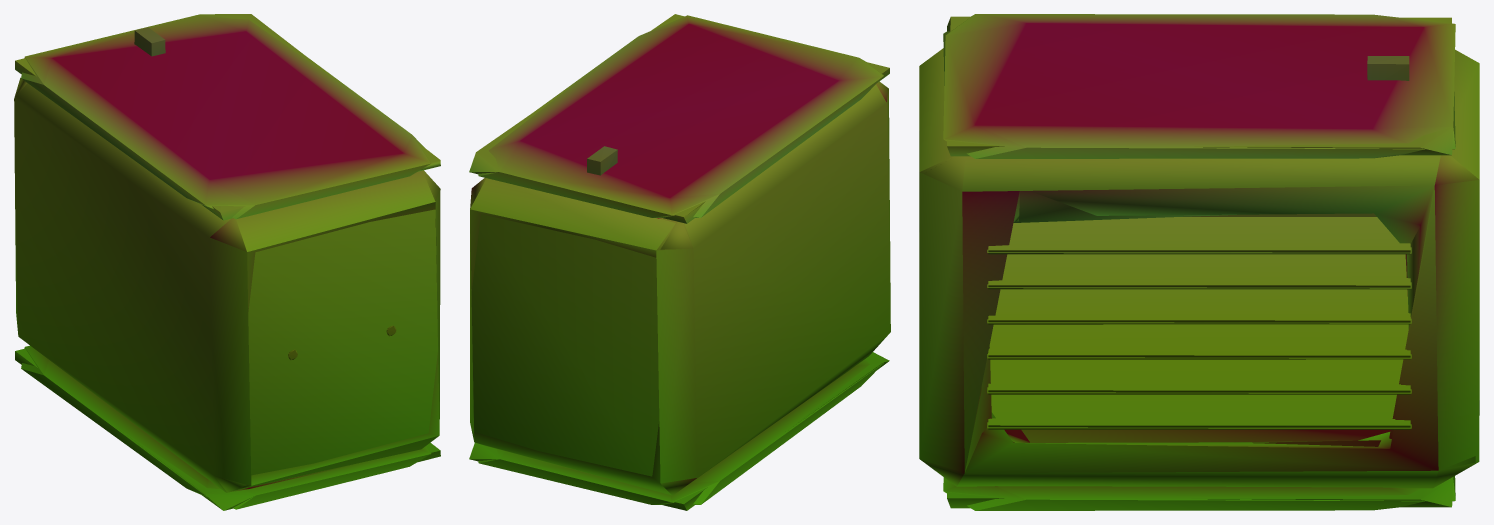
File: RCLModule_command_relay_cyber_nanoweave_sponsons_LODs.fbx
3 renders of one model, left to right at view 1: azimuth 30°, elevation 25°; view 2: azimuth 150°, elevation 25°; view 3: azimuth 270°, elevation 25°, orthographic. The views are drawn at different scales.
Parts seen in each view (by area): view 1: LOD1_RCLModule_command_relay_cyber_nanoweave_sponsons_Batch_ (×2), LOD2_RCLModule_command_relay_cyber_nanoweave_sponsons_Batch_; view 2: LOD1_RCLModule_command_relay_cyber_nanoweave_sponsons_Batch_ (×2), LOD2_RCLModule_command_relay_cyber_nanoweave_sponsons_Batch_; view 3: LOD1_RCLModule_command_relay_cyber_nanoweave_sponsons_Batch_ (×2), LOD2_RCLModule_command_relay_cyber_nanoweave_sponsons_Batch_.
Part boxes in pixels (<box>): LOD1_RCLModule_command_relay_cyber_nanoweave_sponsons_Batch_ (×2): <box>14,14,440,509</box>; LOD2_RCLModule_command_relay_cyber_nanoweave_sponsons_Batch_: <box>14,14,440,510</box>; LOD1_RCLModule_command_relay_cyber_nanoweave_sponsons_Batch_ (×2): <box>470,15,890,504</box>; LOD2_RCLModule_command_relay_cyber_nanoweave_sponsons_Batch_: <box>469,14,889,510</box>; LOD1_RCLModule_command_relay_cyber_nanoweave_sponsons_Batch_ (×2): <box>919,14,1479,510</box>; LOD2_RCLModule_command_relay_cyber_nanoweave_sponsons_Batch_: <box>923,16,1475,508</box>.
Bounding box in the file's own units: 37.18 × 51.33 × 64.33.
